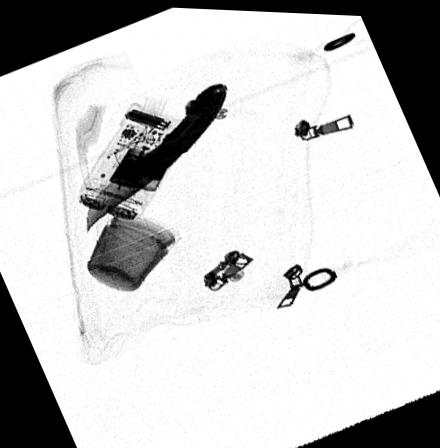Knife: (86, 81, 229, 231)
